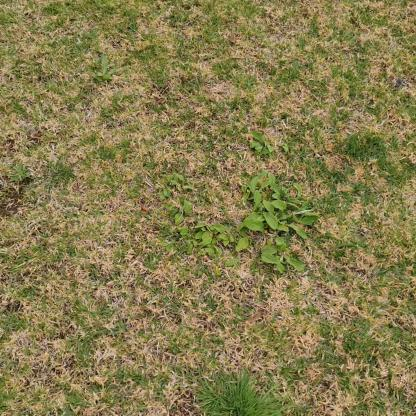Weeds: (157, 169, 321, 276), (159, 173, 194, 226), (250, 131, 275, 160), (91, 56, 116, 84), (9, 163, 30, 183)
